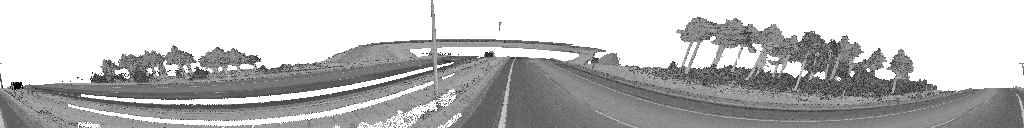light_pole: (430, 0, 439, 81)
traffic_pole: (10, 82, 22, 89), (484, 51, 494, 56)
